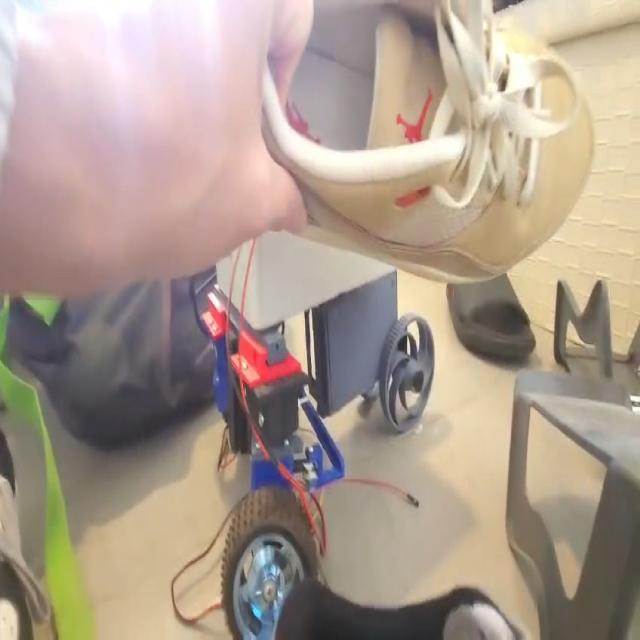Robot: (199, 230, 433, 640)
